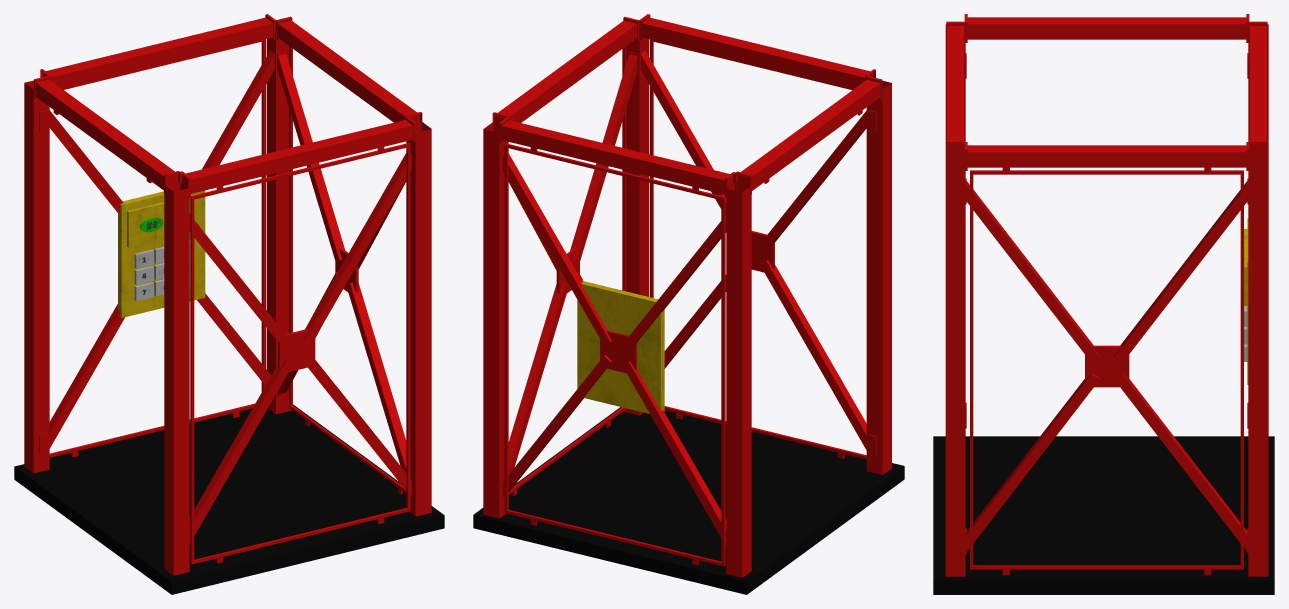
Rendered from Lift.fbx.
The picture shows the model from 3 angles, left to right: view 1: azimuth 30°, elevation 25°; view 2: azimuth 150°, elevation 25°; view 3: azimuth 270°, elevation 25°; orthographic projection. The views are drawn at different scales.
Parts seen in each view (by area): view 1: Construction_Lift, ConstrcutionLiftRoof4; view 2: Construction_Lift, ConstrcutionLiftRoof4; view 3: Construction_Lift, ConstrcutionLiftRoof4.
Boxes of the visible parts, x1,y1,x2,y2 form: Construction_Lift: (14, 14, 444, 594); ConstrcutionLiftRoof4: (118, 190, 205, 317); Construction_Lift: (473, 14, 904, 594); ConstrcutionLiftRoof4: (577, 280, 664, 413); Construction_Lift: (933, 14, 1274, 594); ConstrcutionLiftRoof4: (1244, 218, 1248, 384).
Size of the model in its own units: 2.28 by 3.26 by 2.28.
